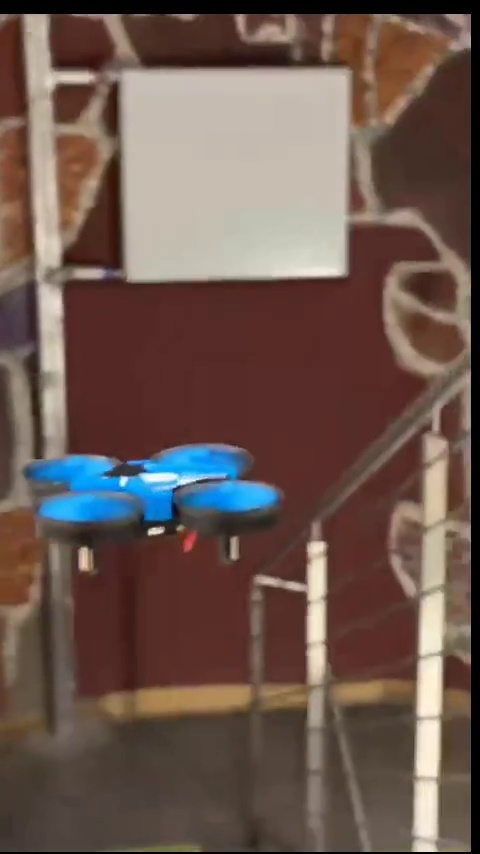drone: (26, 446, 281, 571)
